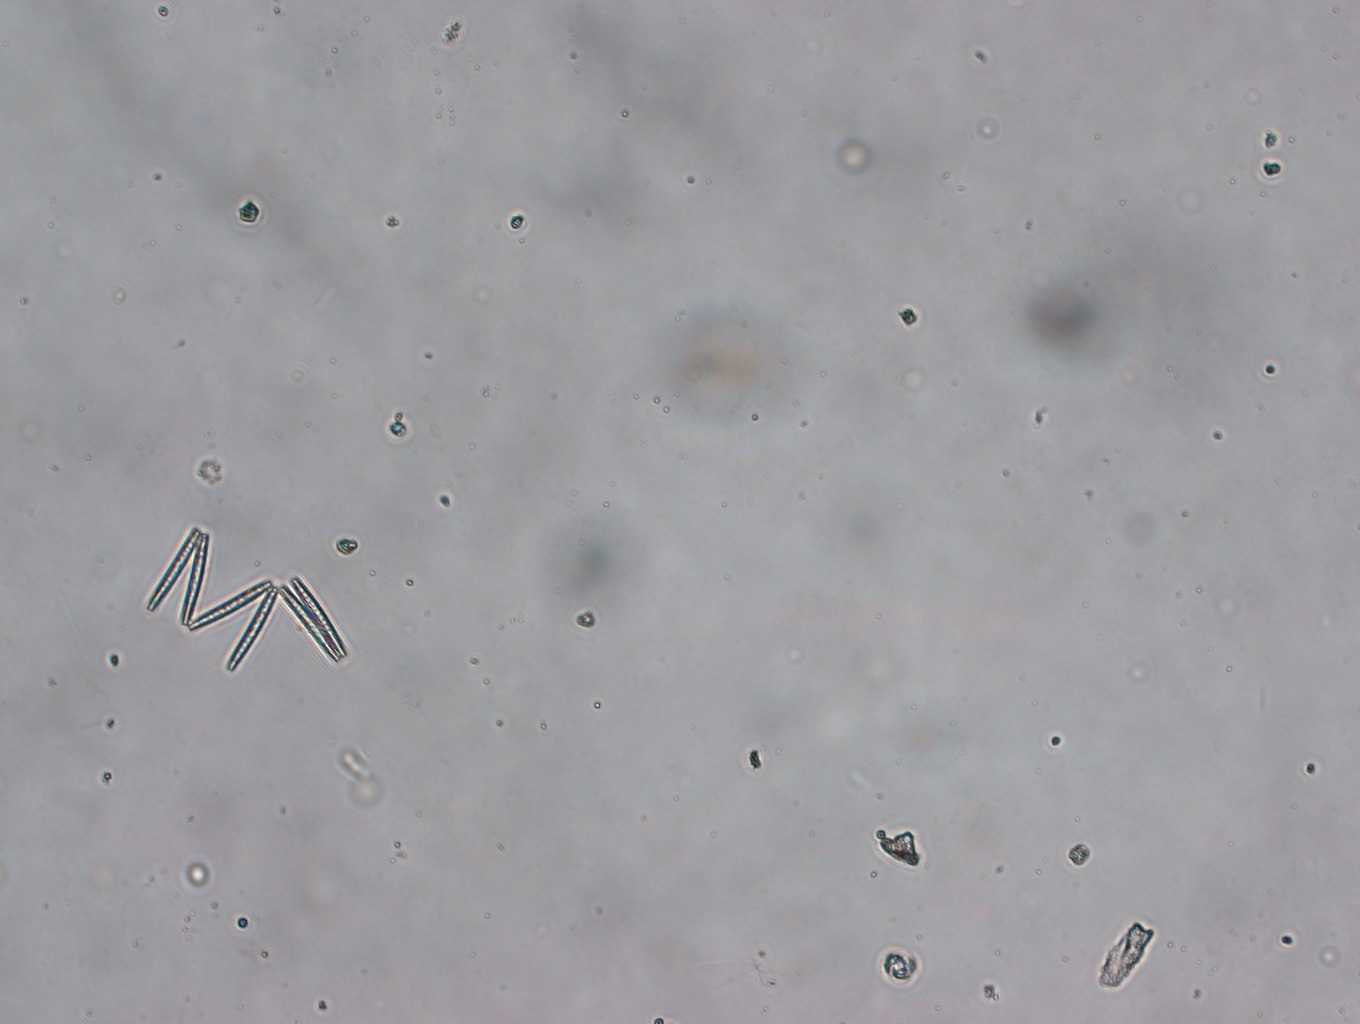thalassionema nitzschioides: (146, 525, 346, 672)
